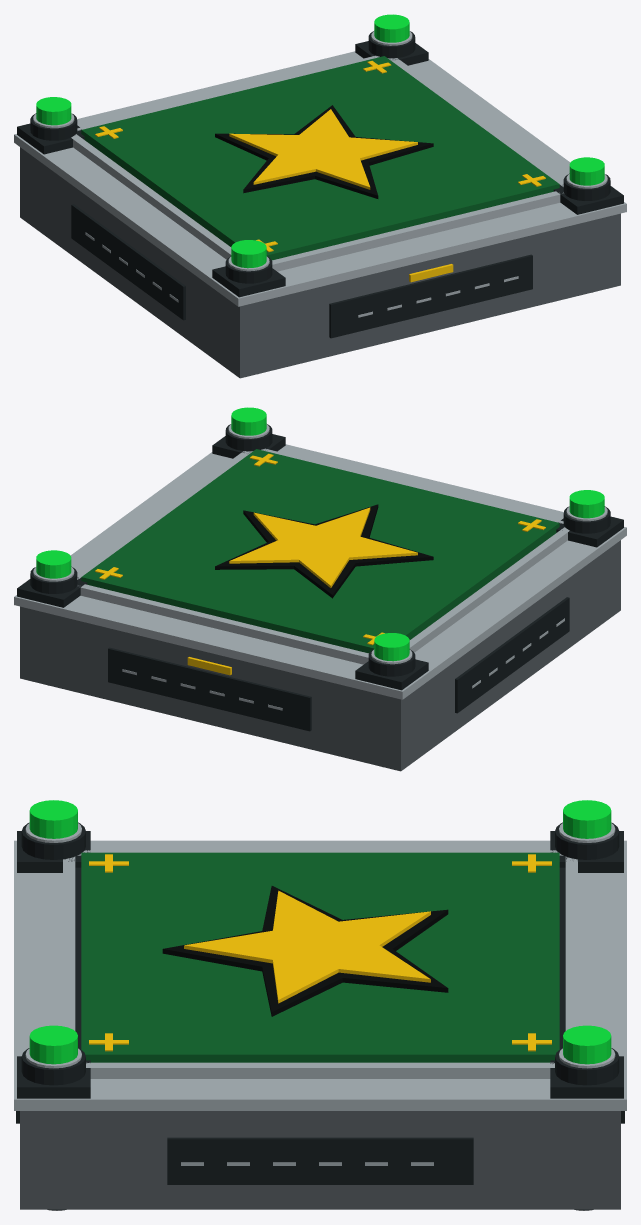
Rendered from StarBoxInspectionPlatform.obj.
The picture shows the model from 3 angles, top to bottom: view 1: azimuth 30°, elevation 25°; view 2: azimuth 150°, elevation 25°; view 3: azimuth 270°, elevation 25°; orthographic projection. The views are drawn at different scales.
Parts seen in each view (by area): view 1: Green_Placement_Deck, Metal_Base, Upper_Rim, Service_Panel_Back, Yellow_Star_Marker, Service_Panel_Left, Deck_Rail_Z_Back, Star_Black_Contrast_Border, Deck_Rail_X_Left, Deck_Rail_X_Right, Corner_Protector_LB, Deck_Rail_Z_Front (+11 smaller); view 2: Green_Placement_Deck, Metal_Base, Upper_Rim, Service_Panel_Front, Yellow_Star_Marker, Service_Panel_Left, Deck_Rail_Z_Front, Star_Black_Contrast_Border, Deck_Rail_X_Left, Deck_Rail_X_Right, Corner_Protector_LF, Deck_Rail_Z_Back (+11 smaller); view 3: Green_Placement_Deck, Metal_Base, Upper_Rim, Service_Panel_Right, Yellow_Star_Marker, Deck_Rail_X_Right, Star_Black_Contrast_Border, Deck_Rubber_Gasket, Deck_Rail_Z_Front, Deck_Rail_Z_Back, LED_RF_Lens, LED_RB_Lens (+11 smaller).
Part boxes in pixels (x1,y1,x2,y2): Green_Placement_Deck: (81,56,559,260); Metal_Base: (20,147,620,378); Upper_Rim: (14,51,626,306); Service_Panel_Back: (329,254,532,338); Yellow_Star_Marker: (229,109,417,189); Service_Panel_Left: (71,204,185,320); Deck_Rail_Z_Back: (272,191,563,271); Star_Black_Contrast_Border: (215,105,433,198); Deck_Rail_X_Left: (71,134,231,259); Deck_Rail_X_Right: (388,58,563,186); Corner_Protector_LB: (212,266,285,297); Deck_Rail_Z_Front: (77,55,379,130); Green_Placement_Deck: (81,449,559,653); Metal_Base: (20,540,620,771); Upper_Rim: (14,444,626,699); Service_Panel_Front: (108,647,311,731); Yellow_Star_Marker: (229,507,417,587); Service_Panel_Left: (455,597,569,713); Deck_Rail_Z_Front: (78,584,368,664); Star_Black_Contrast_Border: (215,504,433,598); Deck_Rail_X_Left: (409,527,569,652); Deck_Rail_X_Right: (77,451,252,579); Corner_Protector_LF: (355,659,428,690); Deck_Rail_Z_Back: (261,448,563,523); Green_Placement_Deck: (81,852,559,1062); Metal_Base: (20,1111,620,1209); Upper_Rim: (14,840,626,1110); Service_Panel_Right: (167,1137,473,1184); Yellow_Star_Marker: (184,890,430,1003); Deck_Rail_X_Right: (86,1062,554,1078); Star_Black_Contrast_Border: (162,886,448,1016); Deck_Rubber_Gasket: (75,867,565,1049); Deck_Rail_Z_Front: (565,856,577,1030); Deck_Rail_Z_Back: (63,856,75,1030); LED_RF_Lens: (563,1025,611,1064); LED_RB_Lens: (29,1025,77,1064).
Bounding box in the file's own units: 2 × 0.6 × 2.
